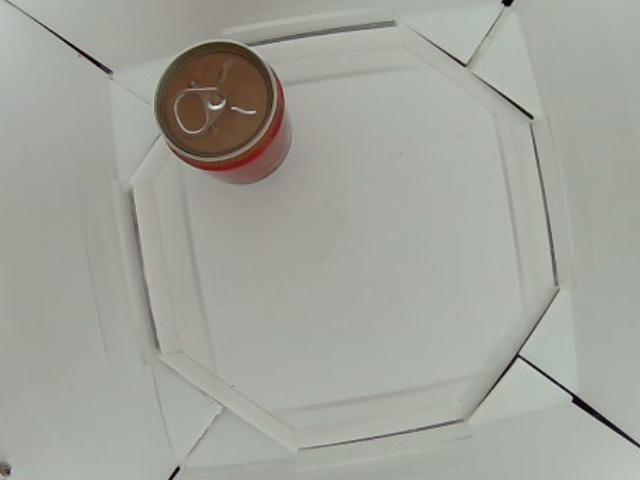Bottle: (154, 40, 295, 184)
